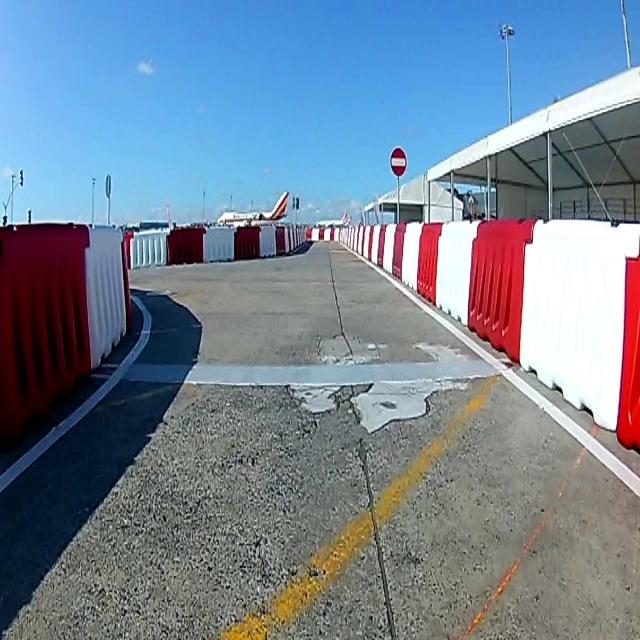girisyok: (388, 146, 408, 177)
